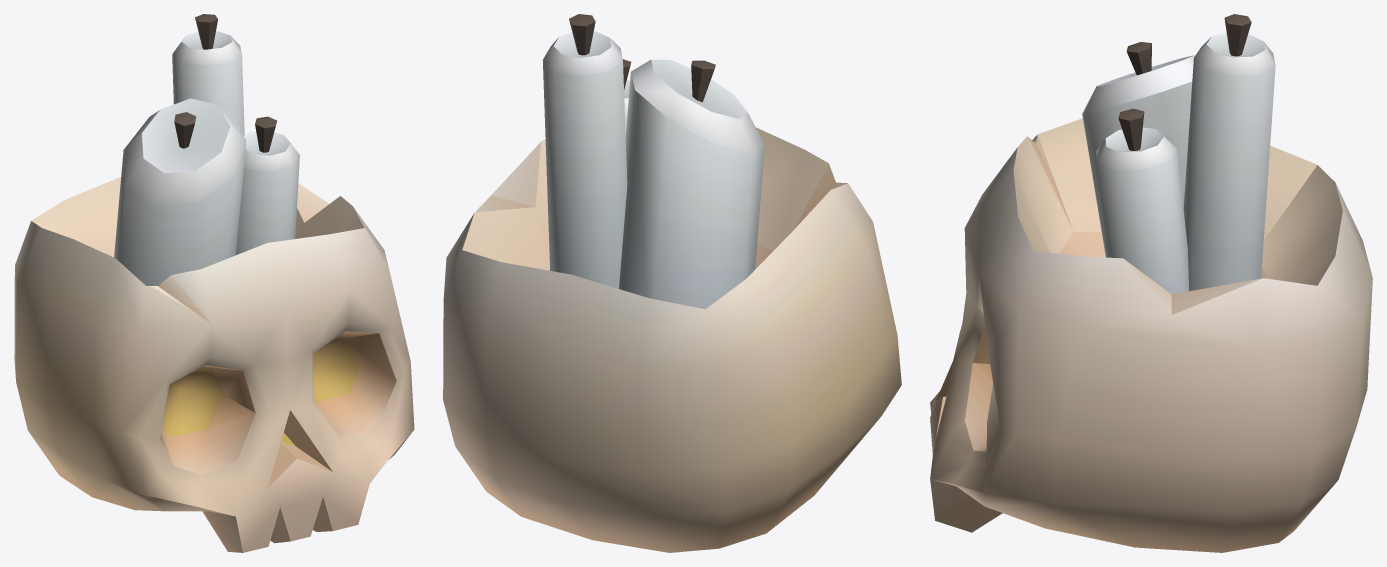
Rendered from h_skull_candle.glb.
The picture shows the model from 3 angles, left to right: view 1: azimuth 30°, elevation 25°; view 2: azimuth 150°, elevation 25°; view 3: azimuth 270°, elevation 25°; orthographic projection. The views are drawn at different scales.
Visible parts, largest first — view 1: skull_candle; view 2: skull_candle; view 3: skull_candle.
Part boxes in pixels (<box>): skull_candle: <box>14,14,414,552</box>; skull_candle: <box>443,14,901,552</box>; skull_candle: <box>930,14,1372,552</box>.
Size of the model in its own units: 0.9176 by 1.19 by 0.9361.
Materials: 1 (1 with a texture image).
